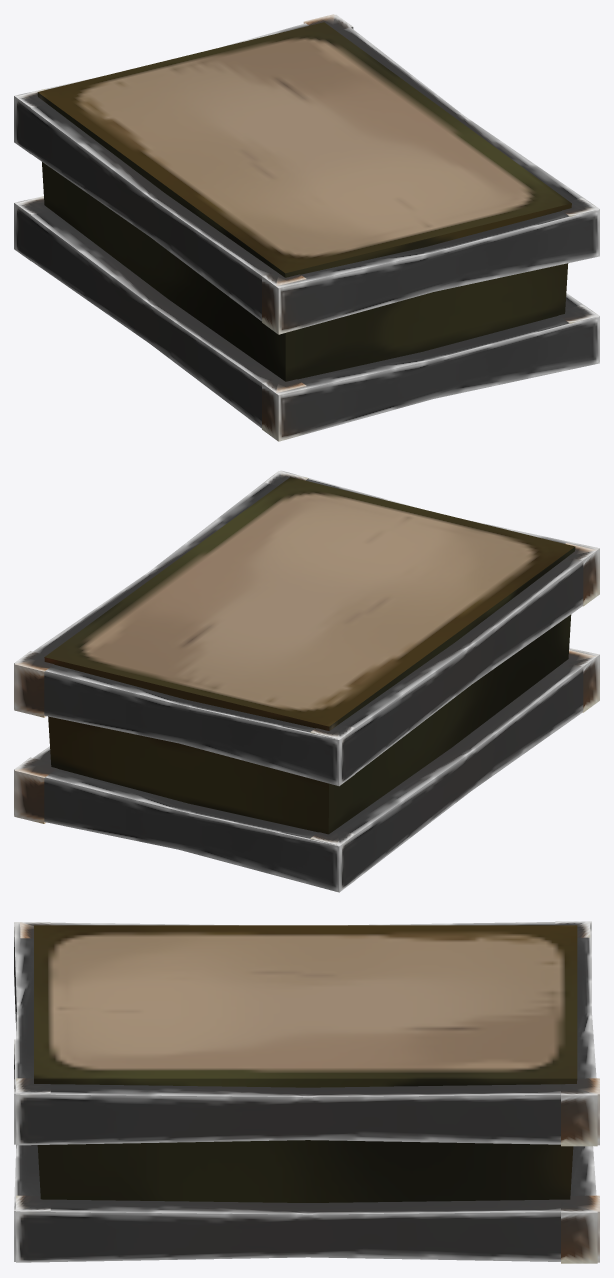
The model's file is Rome_Village_Props_06.FBX.
3 views of the same model, one above another, from view 1: azimuth 30°, elevation 25°; view 2: azimuth 150°, elevation 25°; view 3: azimuth 270°, elevation 25° (orthographic). The views are drawn at different scales.
Visible parts, largest first — view 1: Rome_Village_Props_06; view 2: Rome_Village_Props_06; view 3: Rome_Village_Props_06.
Part boxes in pixels (x1,y1,x2,y2): Rome_Village_Props_06: (14, 14, 599, 441); Rome_Village_Props_06: (14, 470, 599, 892); Rome_Village_Props_06: (14, 921, 599, 1263).
Size of the model in its own units: 93.13 by 44.29 by 132.
